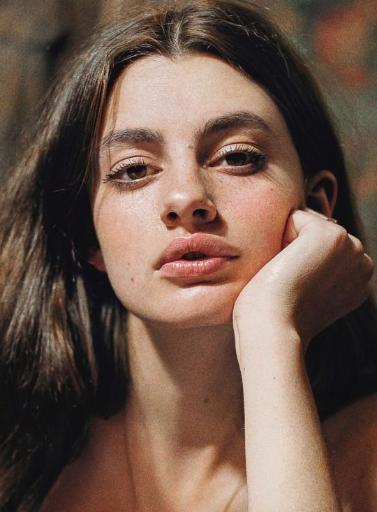left_eye: (210, 146, 269, 178)
left_lip_corner: (231, 248, 245, 270)
right_eye: (111, 162, 162, 188)
right_lip_corner: (152, 260, 164, 281)
